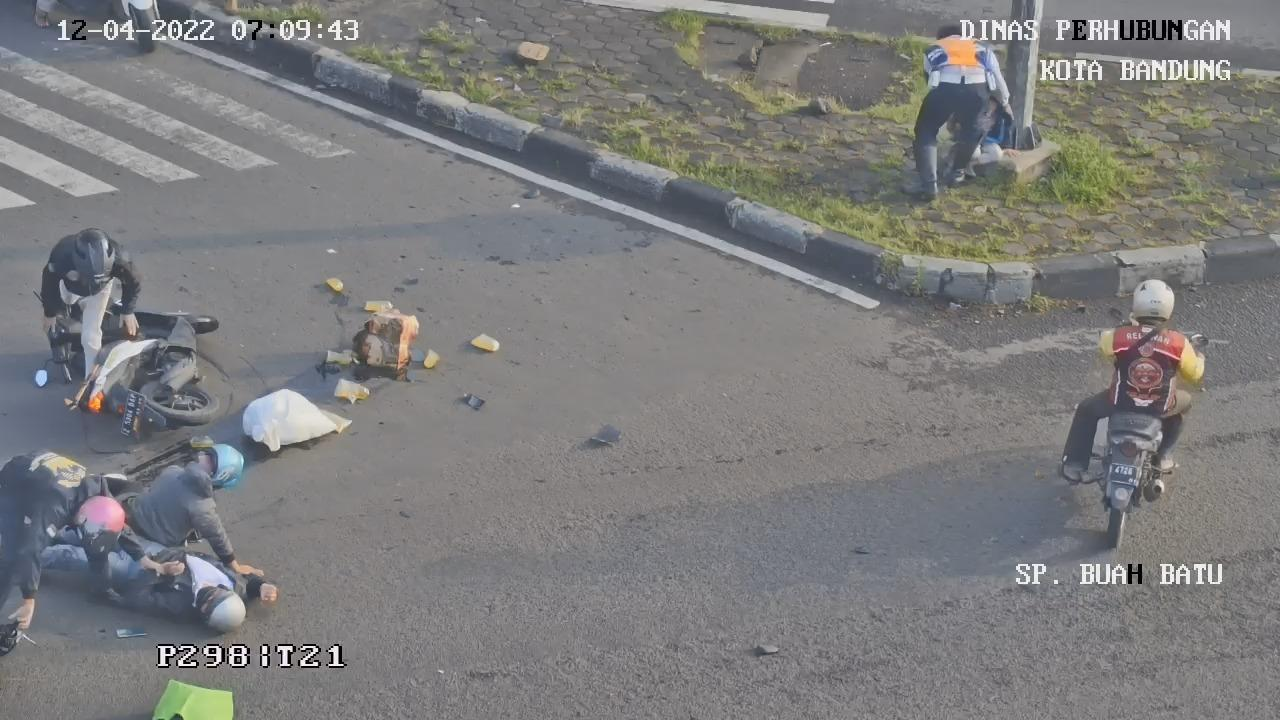accident: (0, 534, 295, 636), (119, 436, 280, 580)
